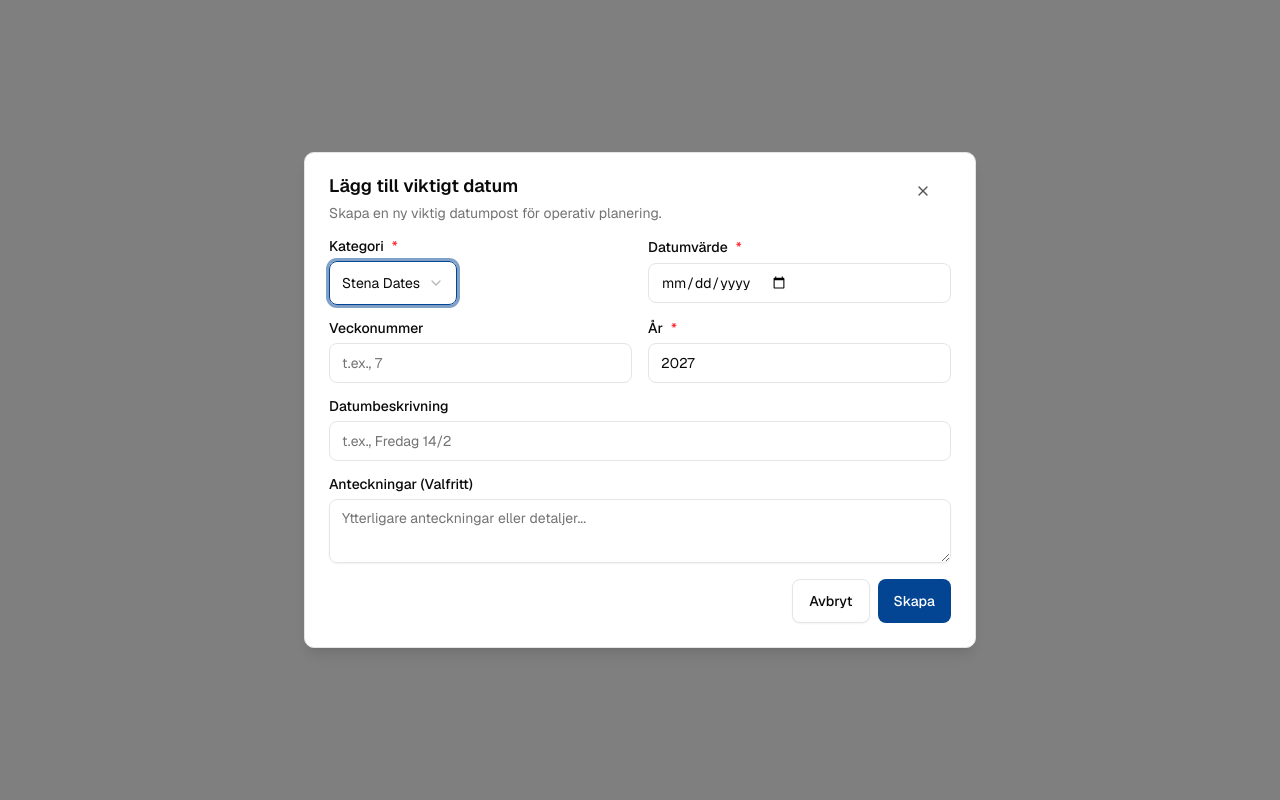
Scenario: PE3 Auto-Description Population › AC2: PE3 Auto-Description Population Tests › should auto-populate description when date and time are set for PE3
Note: Select PE3 category
Click the dropdown named "kategori": coordinates (393, 283) [329, 261, 457, 305]
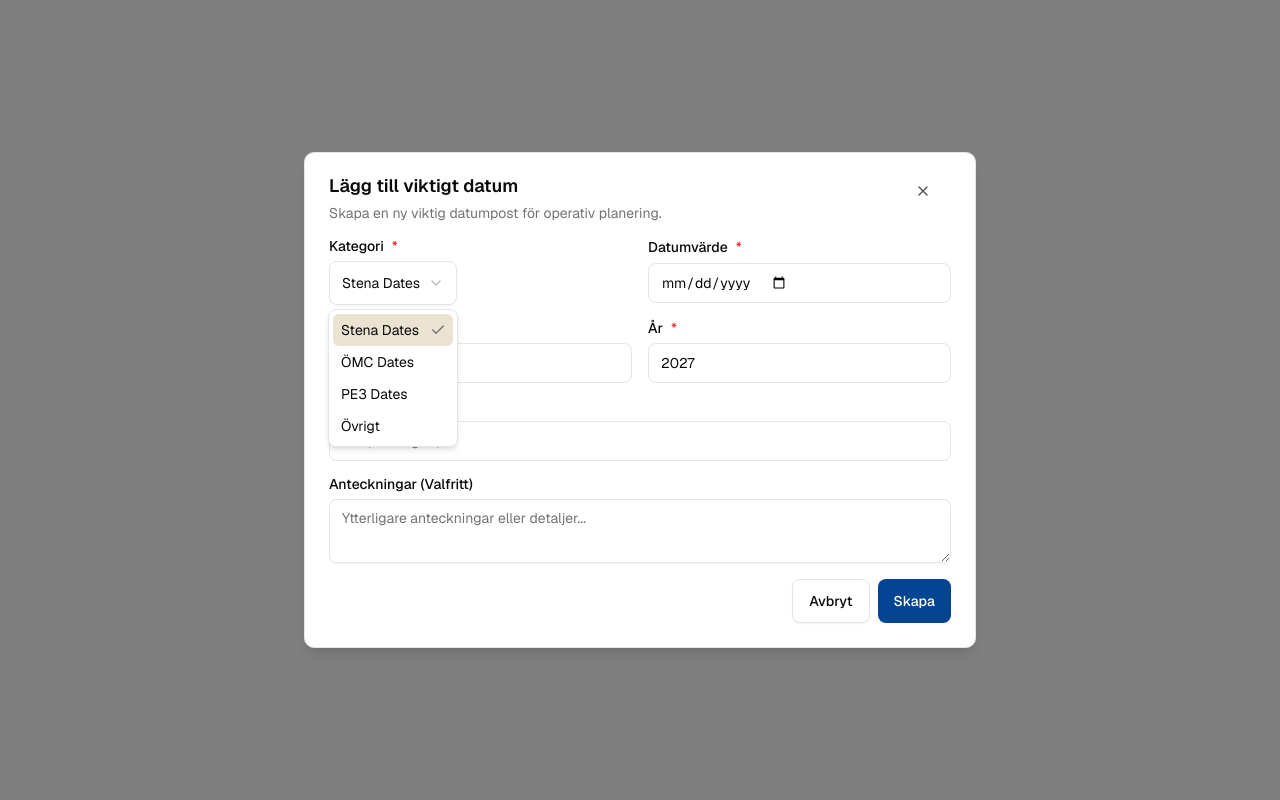
Click the option "PE3 Dates": coordinates (374, 394) [341, 385, 408, 403]
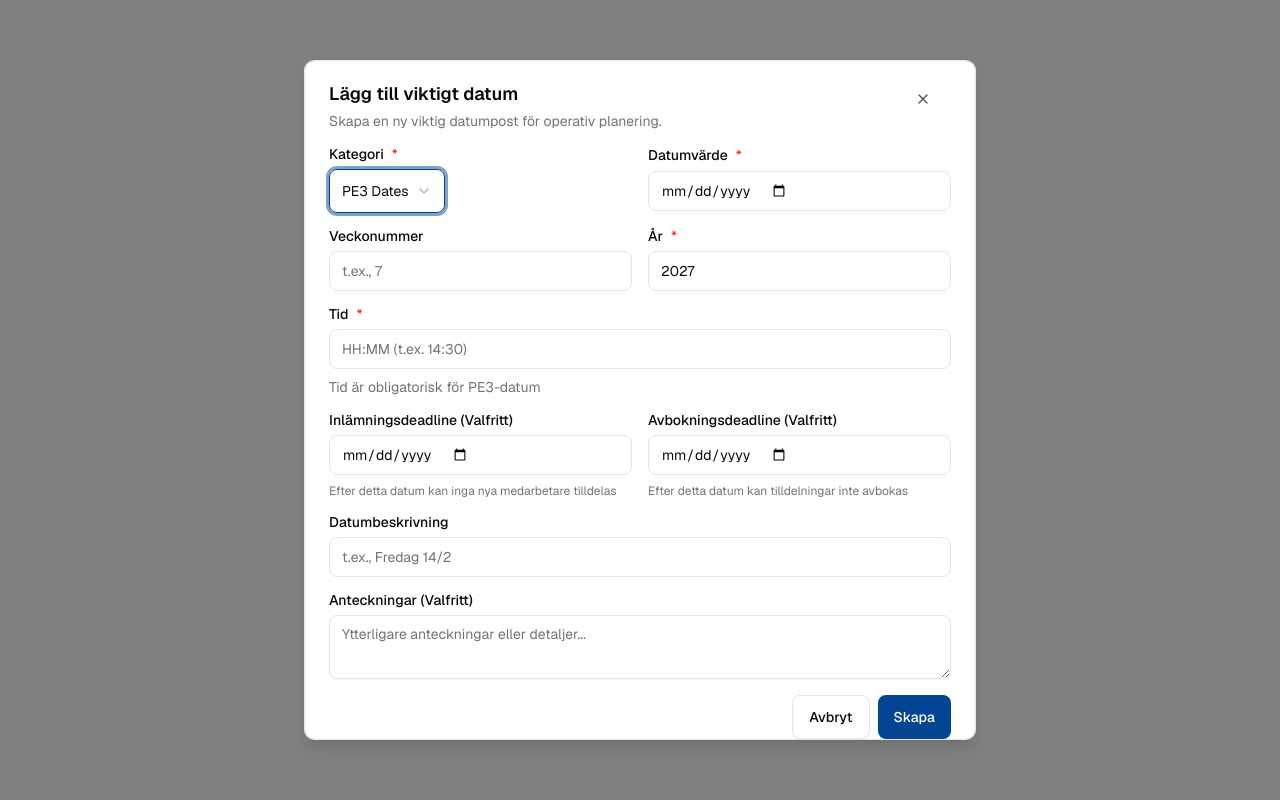
Note: Set date - use userEvent which properly triggers React's event system
In the date field labelled "Datumvärde *": coordinates (800, 191) [648, 171, 951, 211], type "2025-03-15"
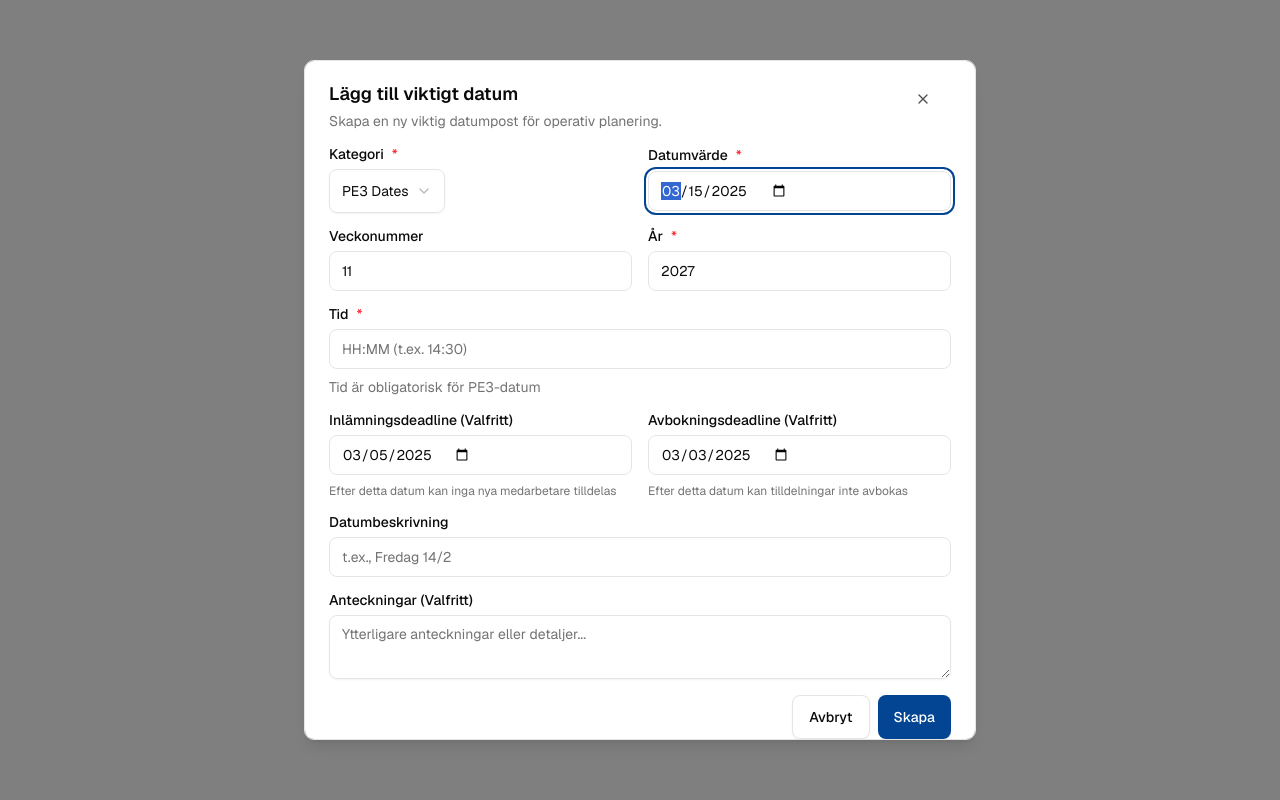
Note: Set time - TimePicker only calls onChange on blur, so we need to blur after typing
In the field labelled "Tid *": coordinates (640, 349) [329, 329, 951, 369], type "14:30"
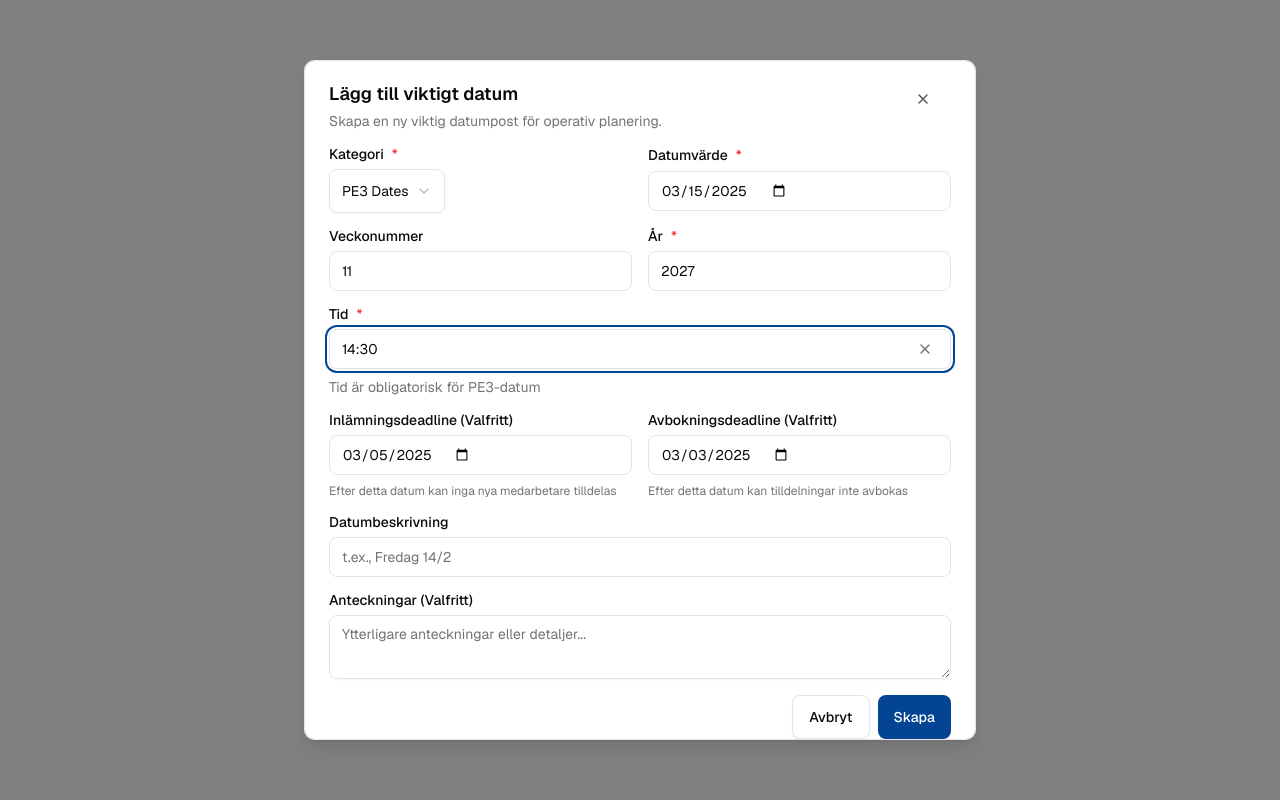
Press Tab
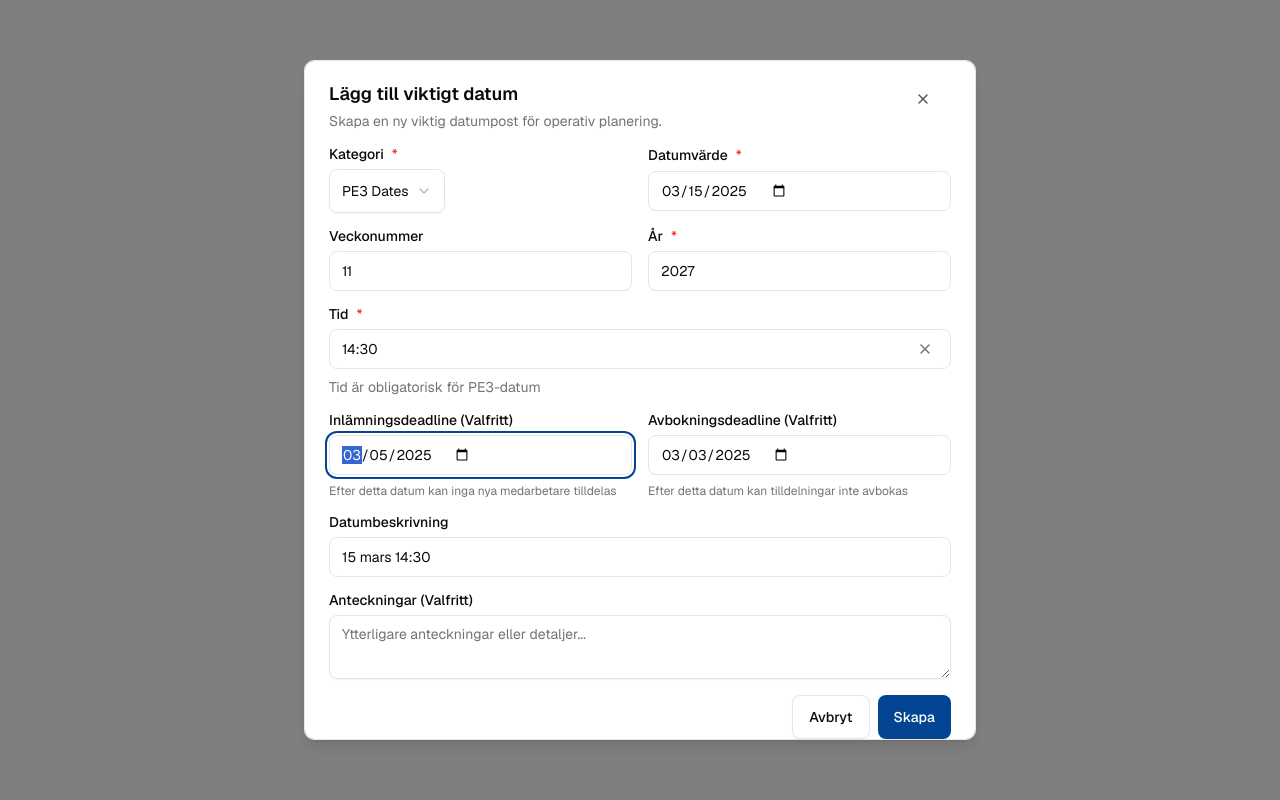
Expected: the field labelled "Datumbeskrivning" holds "15 mars 14:30", [329, 537, 951, 577]
